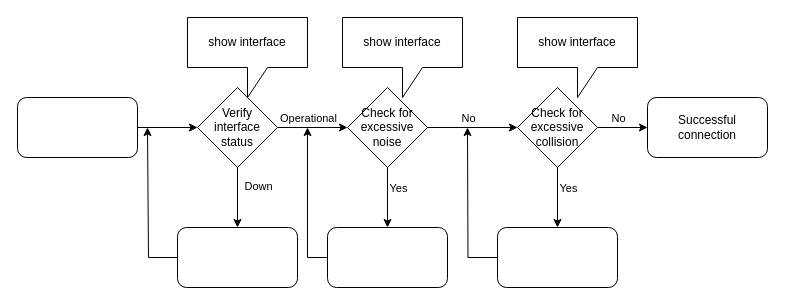
The diagram is 785 pixels wide and 305 high, and some of its shapes have lost their labels. The centre of each missing label's shape, as x and y in pixels:
Fix cablings and connector for damage: point 237,257
No or bad connection: point 77,127
Remove source of noise Check cable length: point 387,257
Verify and fix duplex settings: point 557,257
